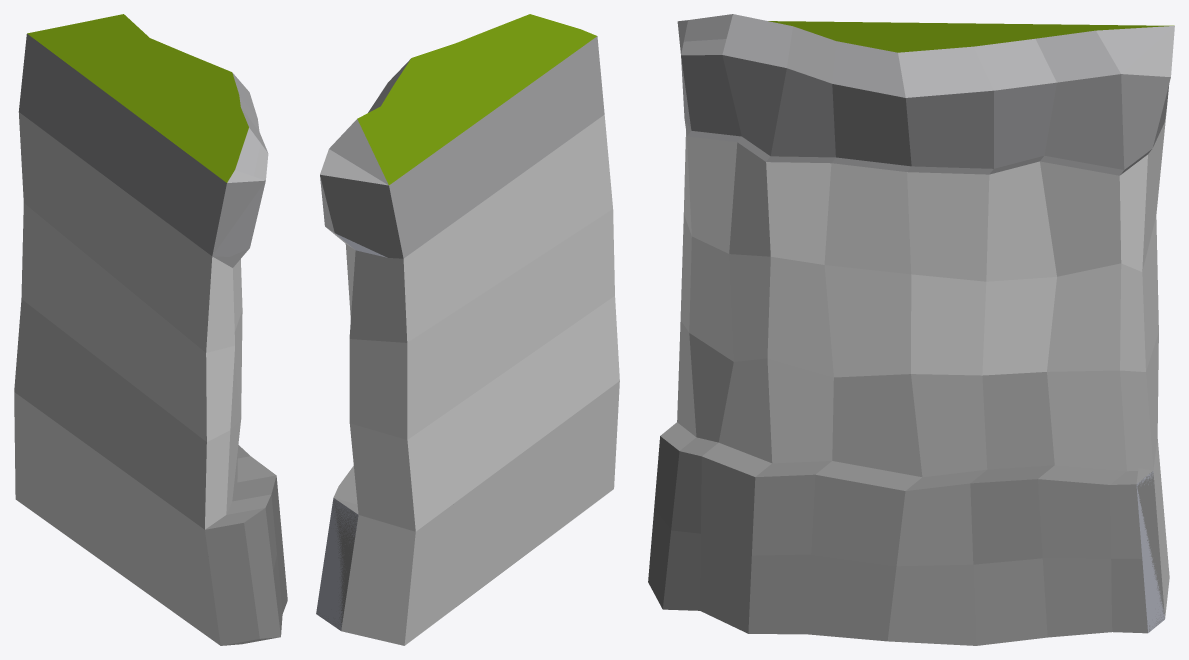
The model's file is Smoothedcliff1Edged.fbx.
3 views of the same model, side by side, from view 1: azimuth 30°, elevation 25°; view 2: azimuth 150°, elevation 25°; view 3: azimuth 270°, elevation 25° (orthographic). The views are drawn at different scales.
Parts seen in each view (by area): view 1: Plane.002; view 2: Plane.002; view 3: Plane.002.
Part boxes in pixels (left/top/right/bottom): Plane.002: left=14, top=14, right=287, bottom=645; Plane.002: left=316, top=14, right=619, bottom=645; Plane.002: left=648, top=14, right=1174, bottom=645.
Size of the model in its own units: 599 by 2034 by 1621.
